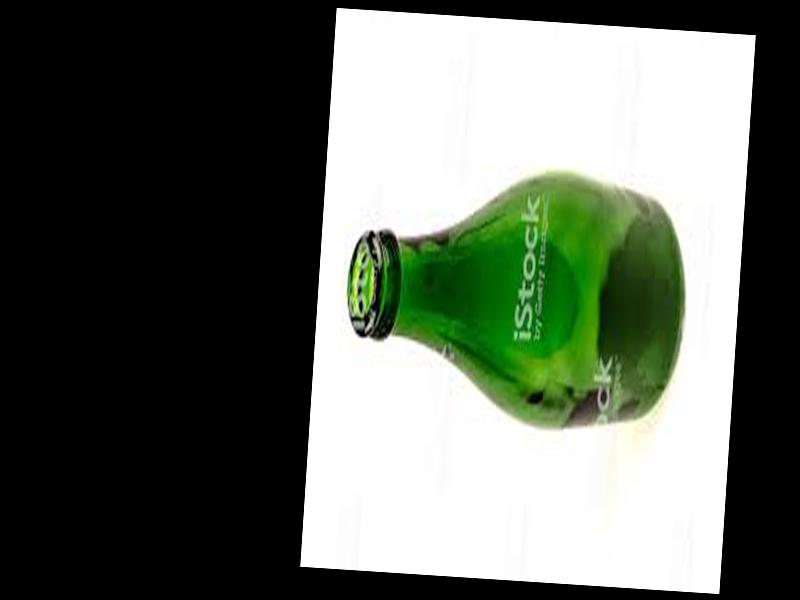Beer: (337, 157, 693, 438)
